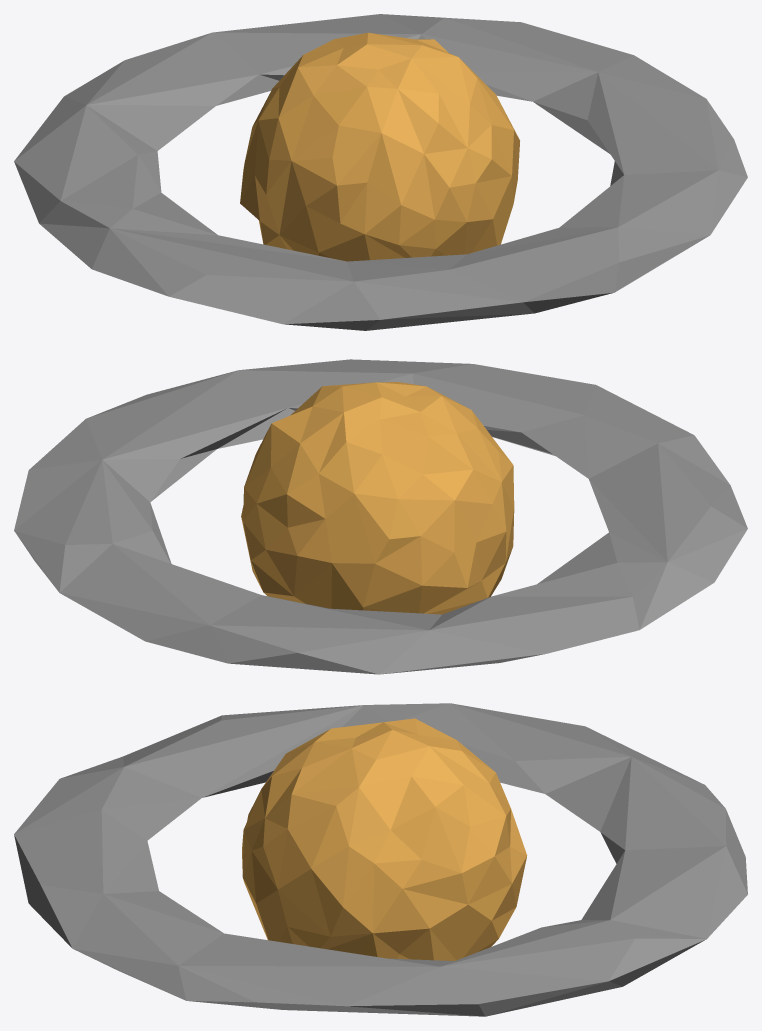
File: ring_planet.fbx
3 renders of one model, top to bottom at view 1: azimuth 30°, elevation 25°; view 2: azimuth 150°, elevation 25°; view 3: azimuth 270°, elevation 25°, orthographic. The views are drawn at different scales.
Visible parts, largest first — view 1: ring_planet; view 2: ring_planet; view 3: ring_planet.
Boxes of the visible parts, box(x1,y1,x2,y2) form: ring_planet: box(14, 14, 747, 330); ring_planet: box(14, 359, 747, 674); ring_planet: box(14, 703, 747, 1016).
Bounding box in the file's own units: 489 × 186 × 489.
